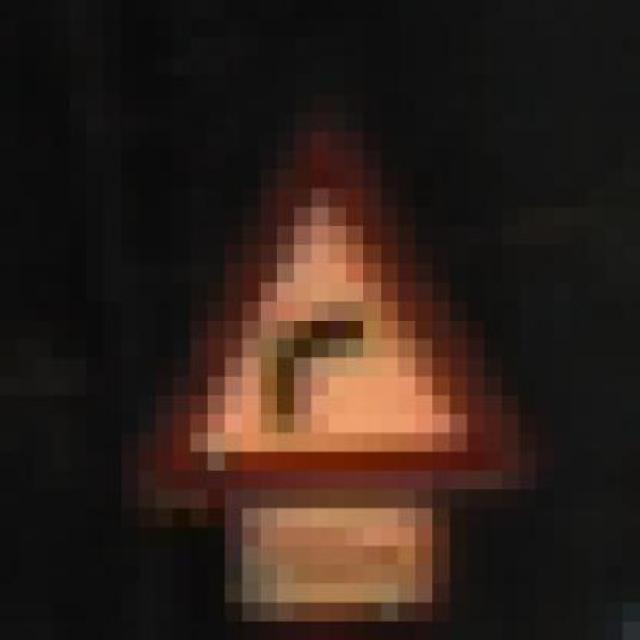Dangerous Rright Curve Ahead: (103, 113, 554, 509)
